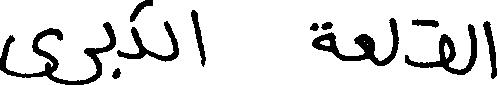X: (0, 23, 60, 84), (62, 29, 101, 84), (130, 0, 152, 63), (312, 17, 336, 61), (191, 5, 205, 71), (103, 17, 115, 83), (355, 29, 374, 68), (485, 16, 496, 83), (439, 29, 453, 78), (390, 13, 398, 66), (469, 19, 476, 75)
